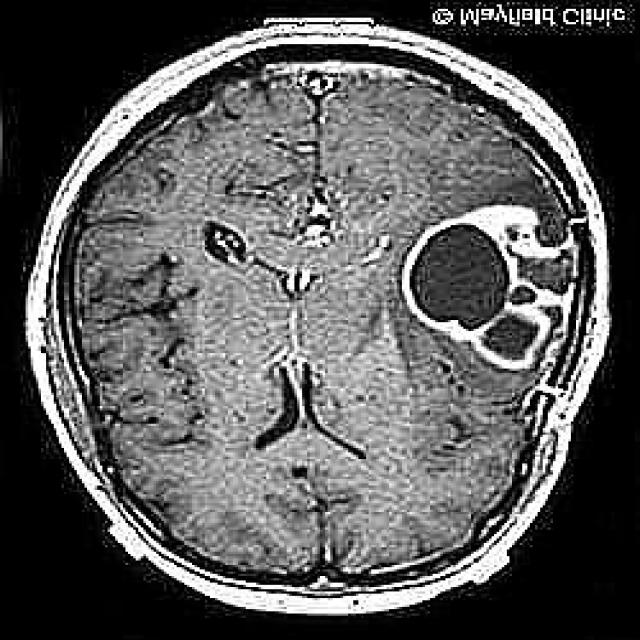Tumor-Cell: (413, 189, 562, 387)
